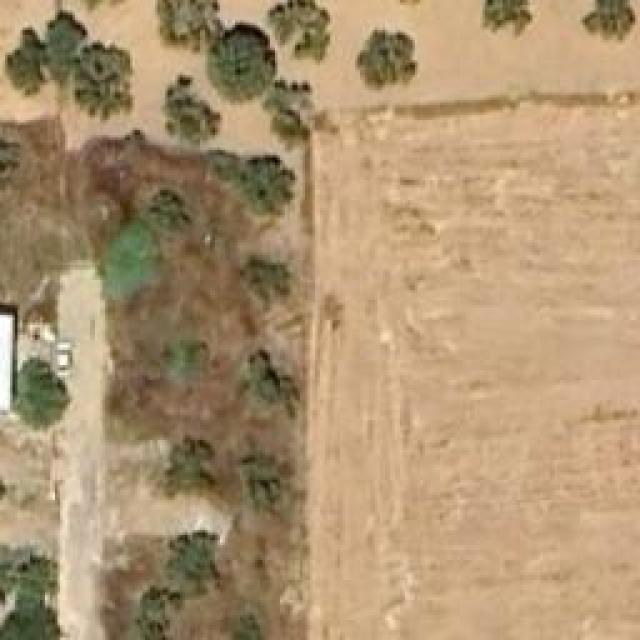Tree: (3, 550, 66, 638), (207, 23, 275, 103), (8, 355, 71, 433), (262, 0, 330, 65), (78, 45, 133, 120), (165, 77, 225, 145), (355, 30, 418, 93), (165, 525, 218, 593), (245, 345, 298, 410), (238, 158, 293, 218), (158, 435, 213, 495), (5, 30, 48, 98), (268, 83, 313, 146), (240, 253, 293, 306), (155, 0, 213, 48), (243, 450, 293, 505), (45, 10, 88, 73), (132, 585, 180, 638), (582, 0, 637, 42), (165, 340, 210, 390), (483, 0, 533, 40), (148, 190, 191, 235), (227, 603, 265, 638)
